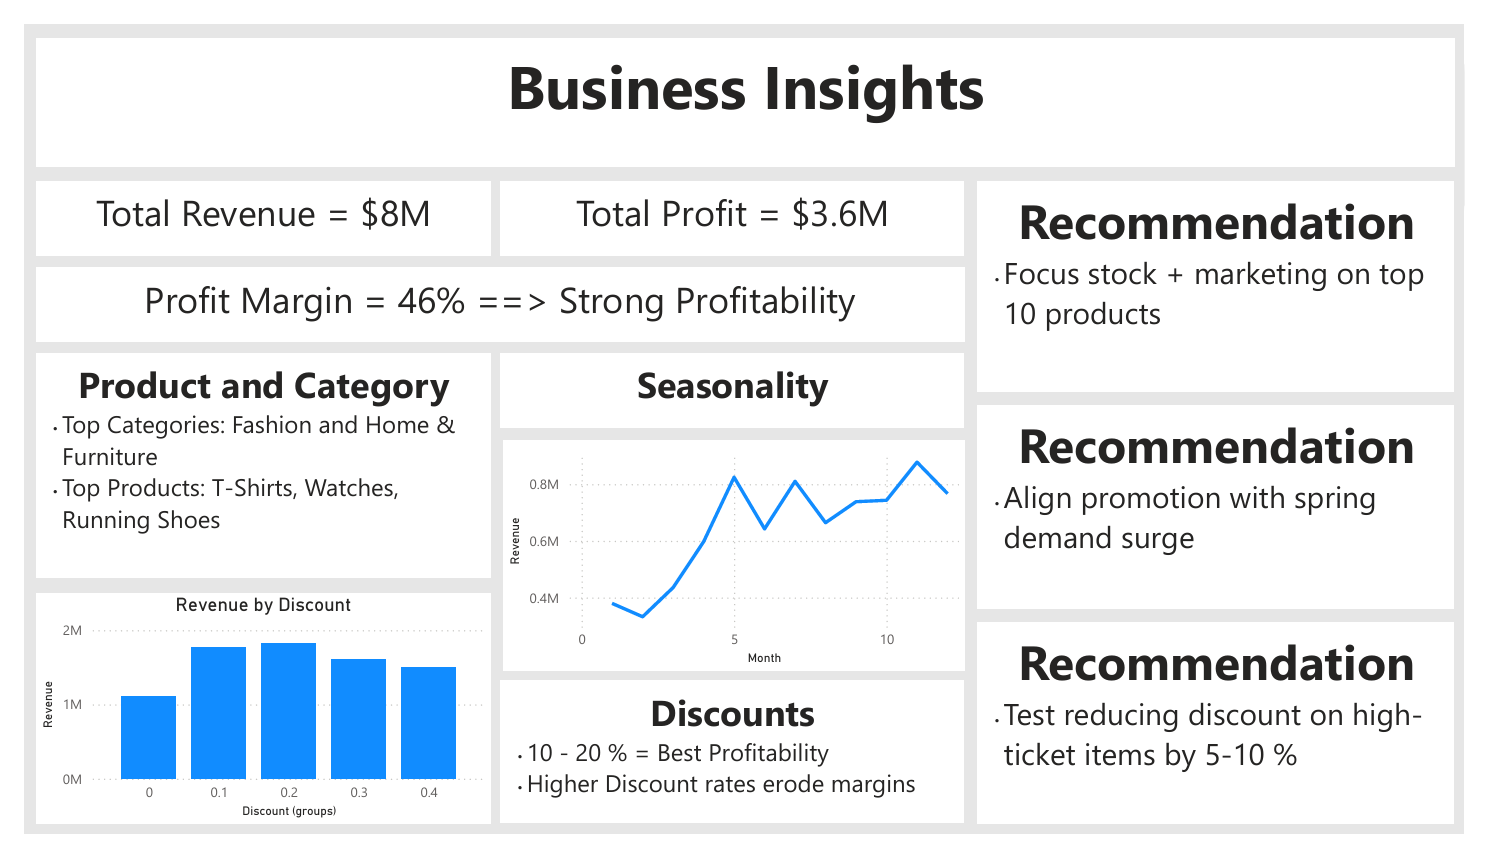

The dashboard page shown, as its layout file describes it:
{"tool":"powerbi","page":{"name":"Page 2","canvas":[1280,720],"ordinal":1},"visuals":[{"type":"textbox","box":[10.4,11.7,1260.7,114.6],"z":0},{"type":"textbox","box":[10.4,138.9,403.8,66.2],"z":1000},{"type":"textbox","box":[423.3,138.9,411.6,66.2],"z":2000},{"type":"textbox","box":[10.4,215.5,824.5,66.2],"z":3000},{"type":"textbox","box":[10.4,292.1,403.8,200],"z":4000},{"type":"textbox","box":[423.3,583,411.6,127.2],"z":5000},{"type":"clusteredColumnChart","title":"Revenue by Discount","fields":{"Category":["FactOrders.Discount (groups)"],"Y":["FactOrders.Total Revenue"]},"box":[10,505,404,205],"z":6000},{"type":"textbox","box":[423.3,292.1,411.6,66.2],"z":7000},{"type":"lineChart","title":"Revenue by Month","fields":{"Y":["FactOrders.Total Revenue"],"Category":["DateTime.Month"]},"box":[424.6,368.8,410.3,205.2],"z":8000},{"type":"textbox","box":[846.6,138.9,424.6,187],"z":9000},{"type":"textbox","box":[846.6,337.6,424.6,181.8],"z":9001},{"type":"textbox","box":[846.6,531.1,424.6,179.2],"z":9002}]}

Visuals, with their boxes in screenshot pixels (x1, y1, x2, y2), scaled from the page's 1280x720 canvas onto the 1490x855 screenshot:
textbox: 12,14,1480,150
textbox: 12,165,482,244
textbox: 493,165,972,244
textbox: 12,256,972,335
textbox: 12,347,482,584
textbox: 493,692,972,843
"Revenue by Discount" clusteredColumnChart: 12,600,482,843
textbox: 493,347,972,425
"Revenue by Month" lineChart: 494,438,972,682
textbox: 985,165,1480,387
textbox: 985,401,1480,617
textbox: 985,631,1480,843
